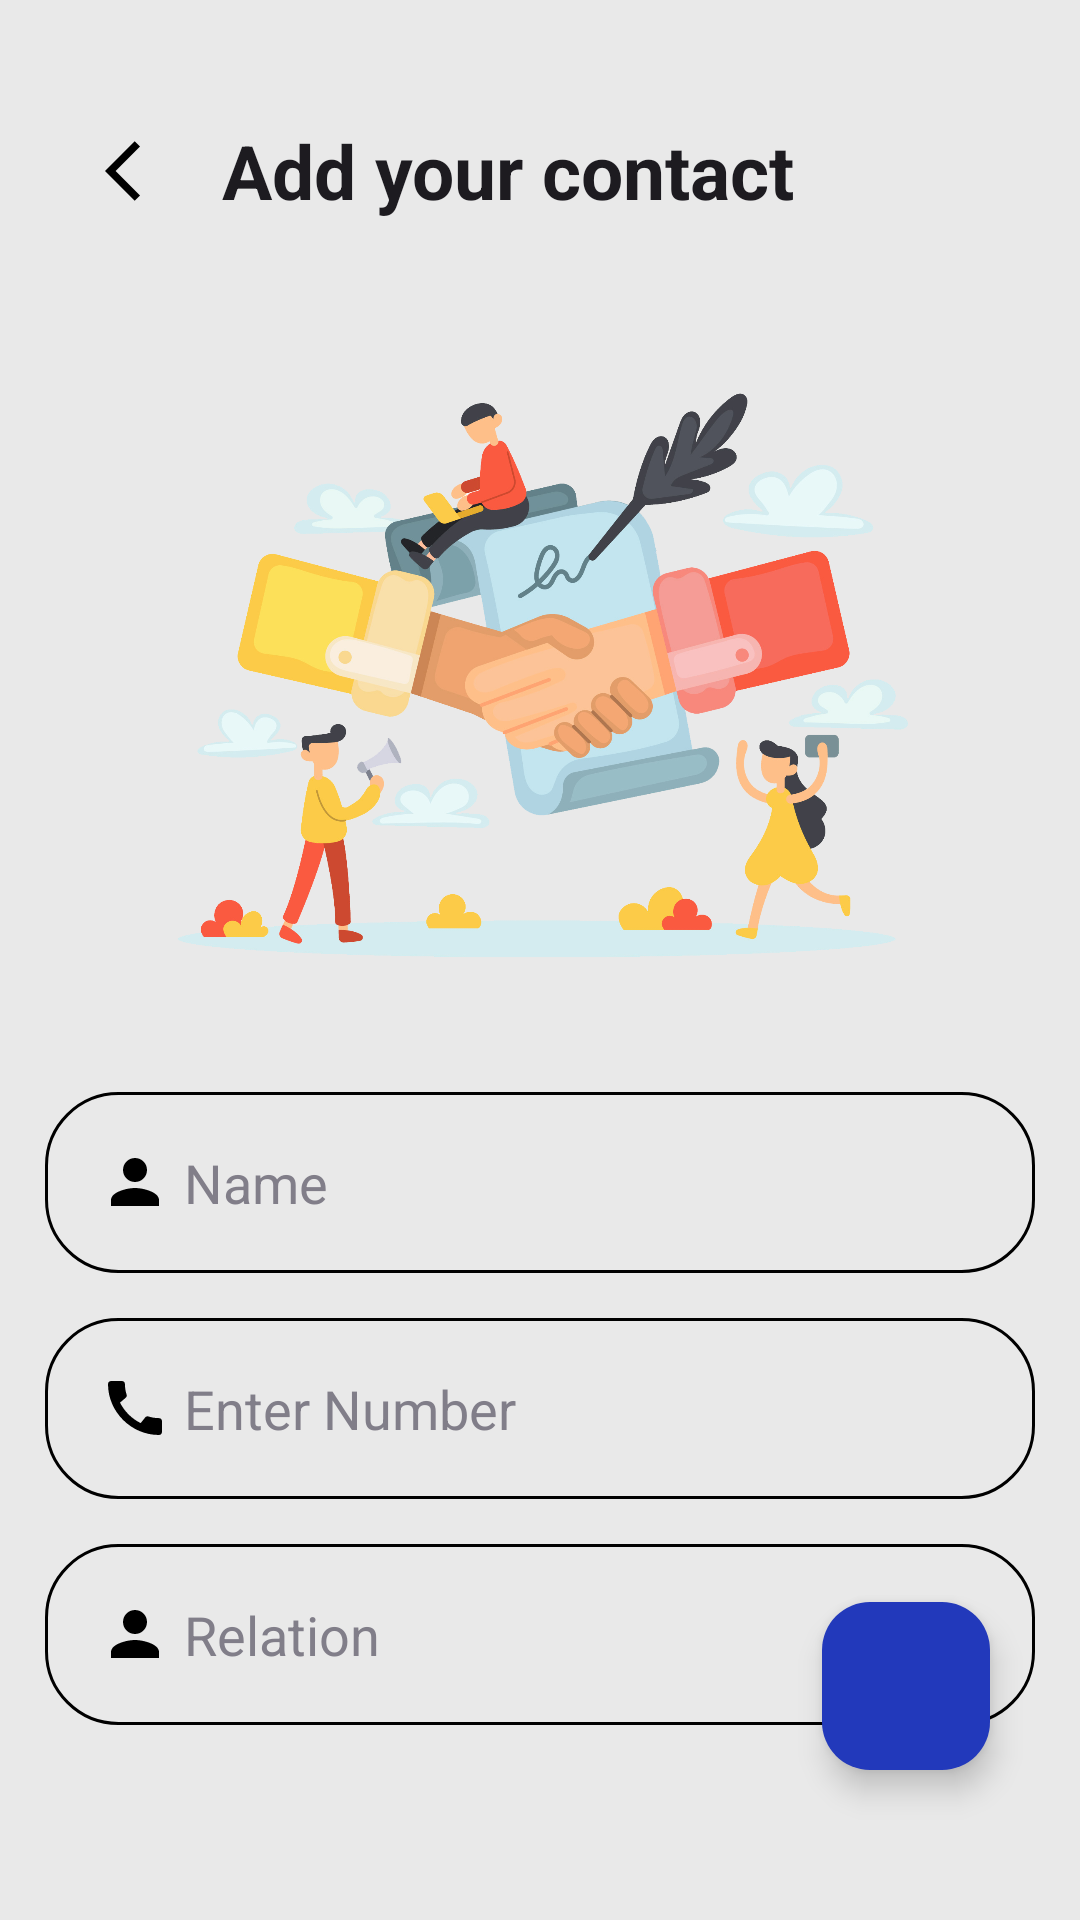

Icons on this 1080x1920 Android screen, each with the point to tap as (x=x, y=y):
arrow back: (x=122, y=171)
